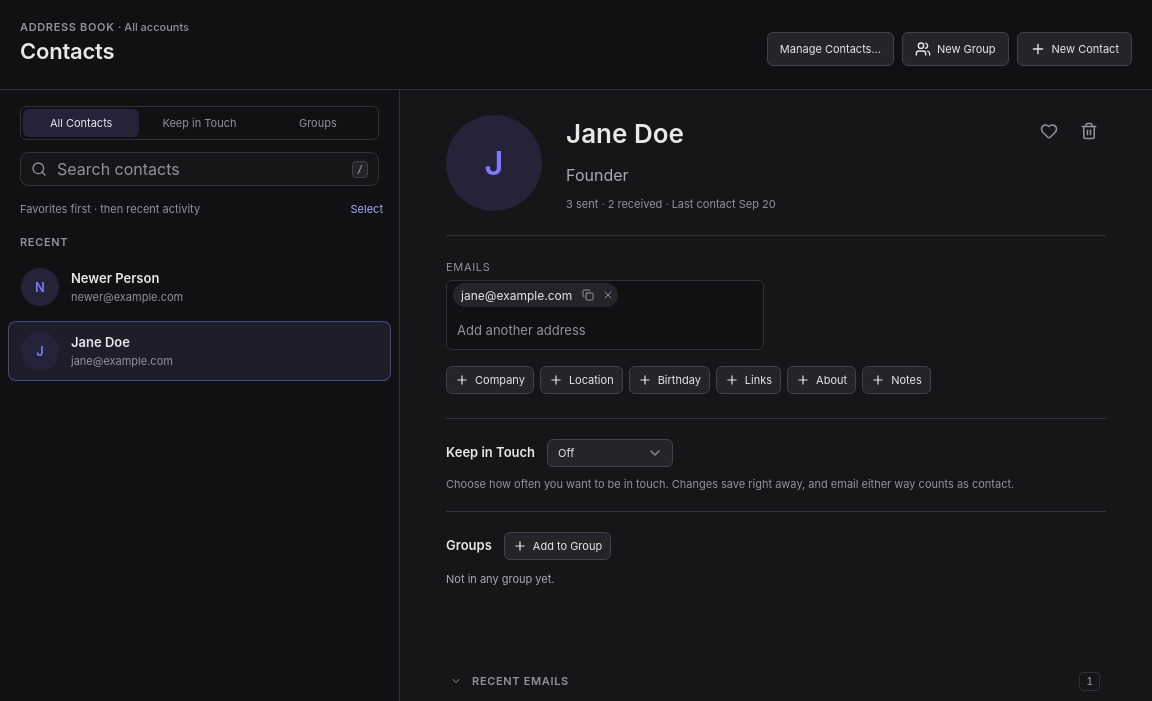
ContactsWorkspace › merges selected saved contacts and refreshes groups, reminders, and the surviving profile
Expected: the field showing "Jane Doe" is shown, [566,114,976,153]
Step 1. Click the button "Select" → (367, 209), box [351,202,383,216]
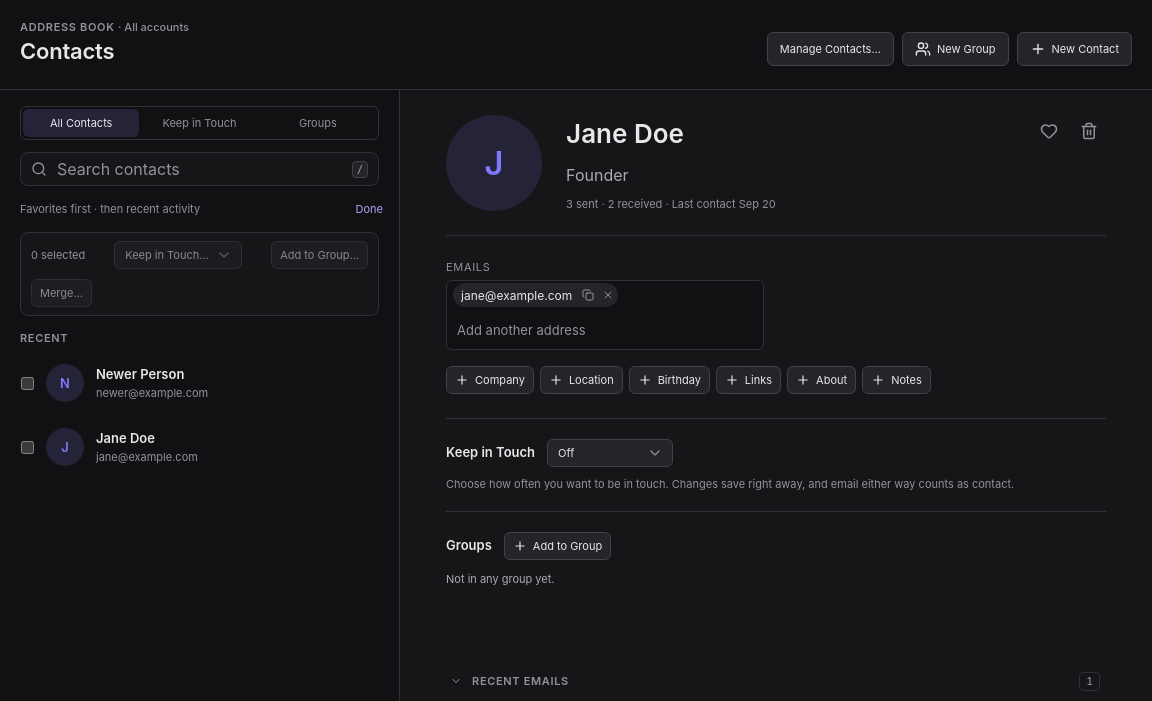
Step 2. Click the checkbox named "Select Jane Doe" → (28, 447), box [21,441,34,454]
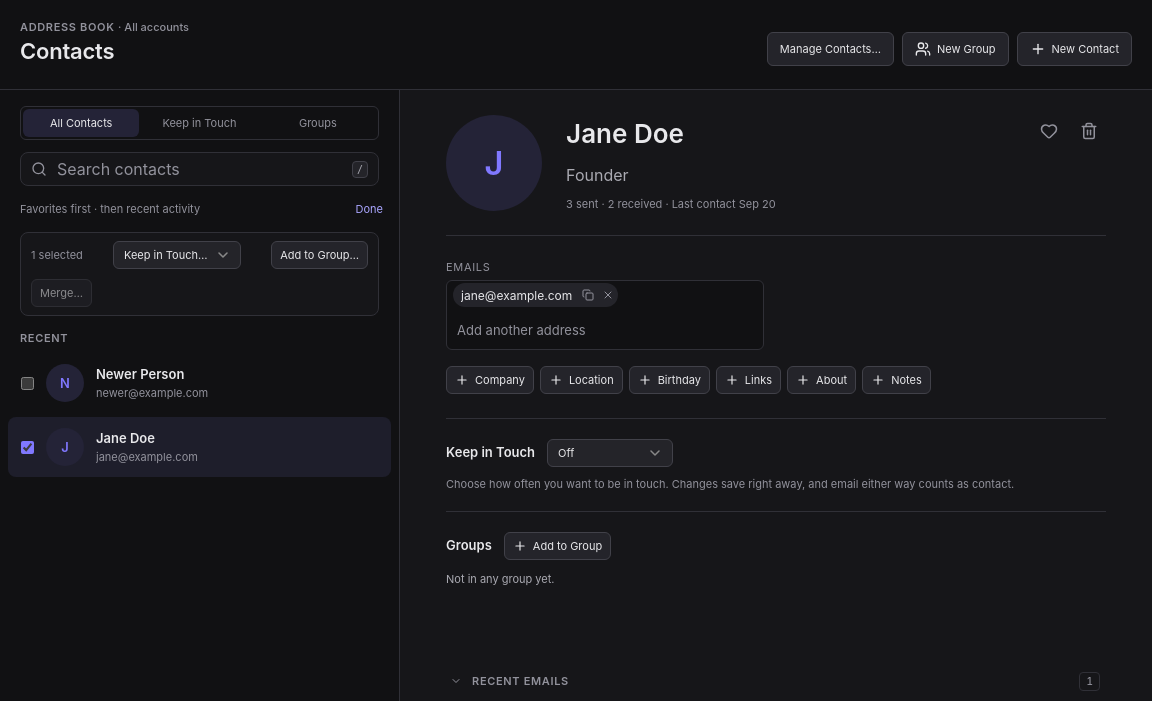
Now the button "Merge…" is disabled, box [31,279,92,307]
Step 3. Click the checkbox named "Select Newer Person" → (28, 383), box [21,377,34,390]
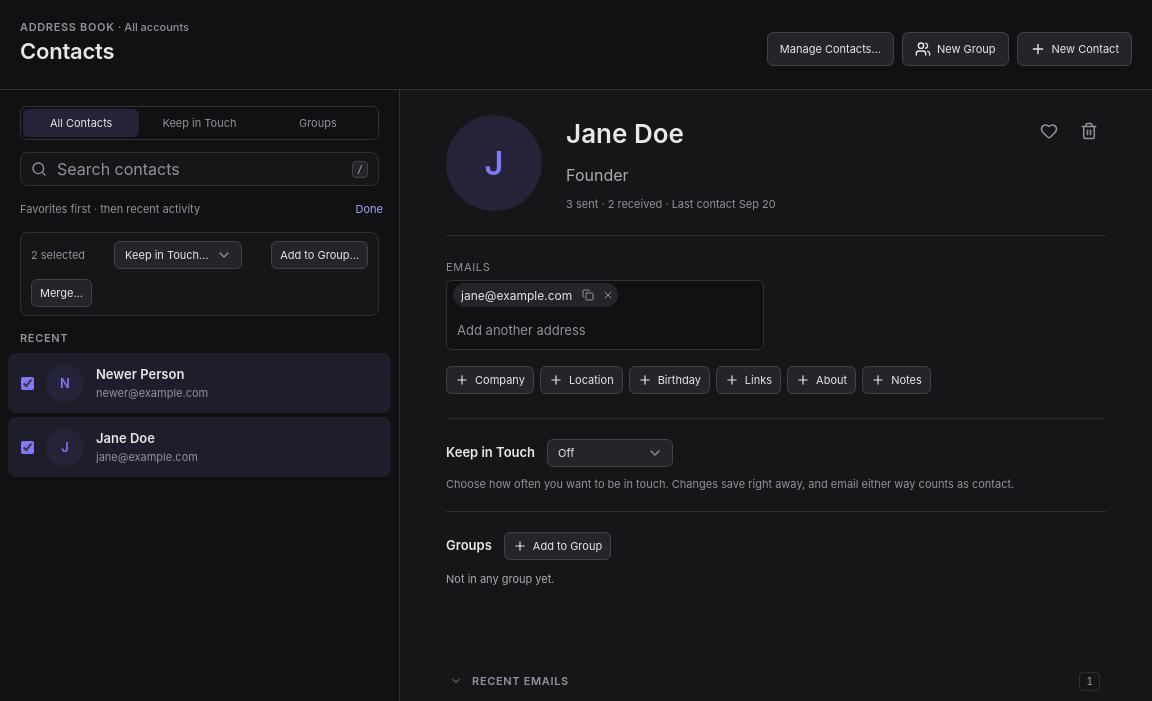
Step 4. Click the button "Merge…" → (62, 293), box [31,279,92,307]
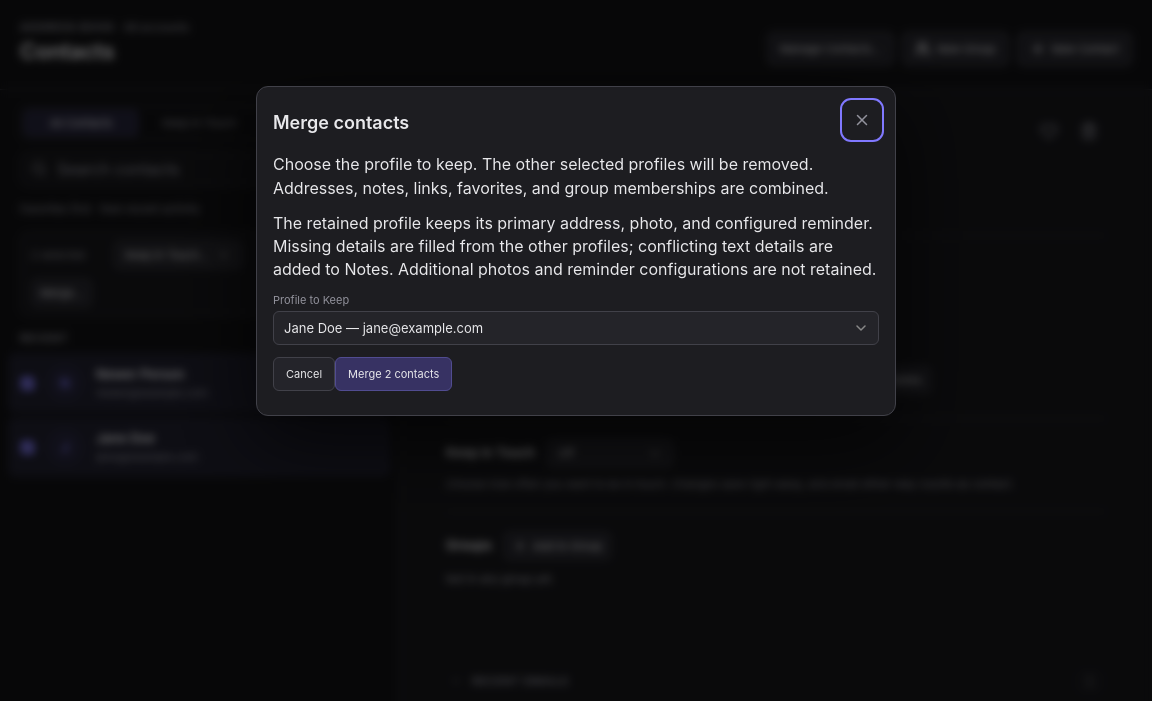
Step 5. Select "Jane Doe — jane@example.com" in the dropdown labelled "Profile to Keep" → (576, 328), box [273,311,879,345]
Step 6. Click the button "Merge 2 contacts" → (394, 374), box [335,357,452,391]
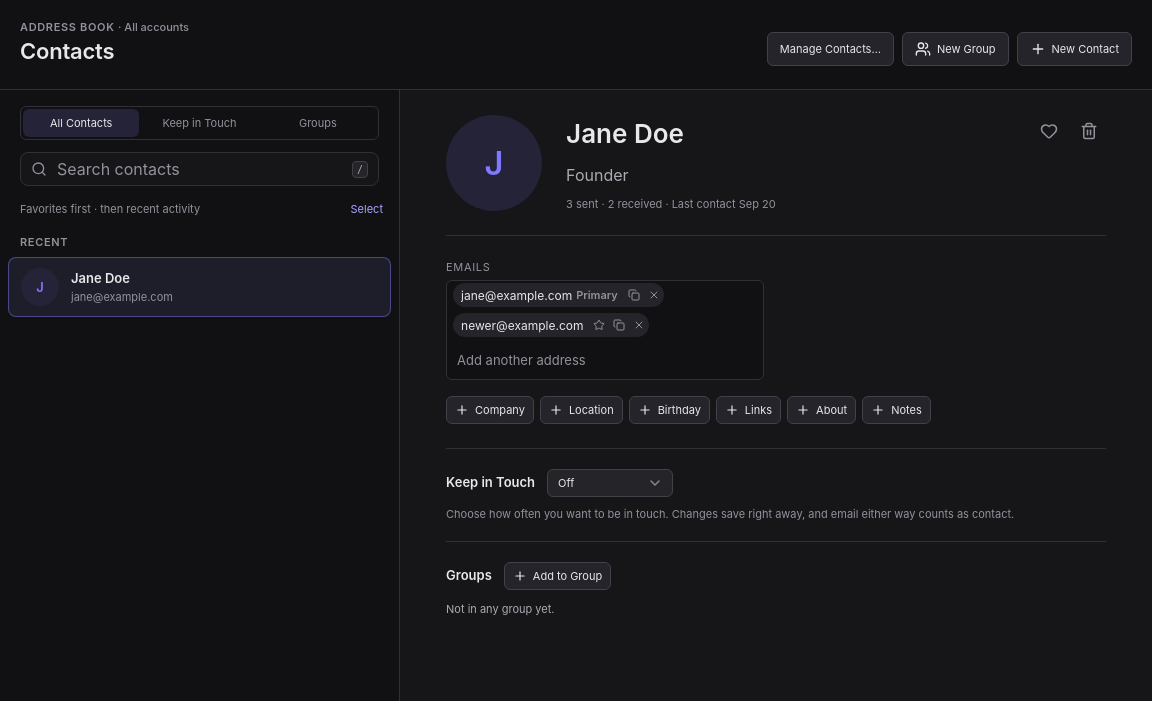
Now the heading "Merge contacts" is gone
